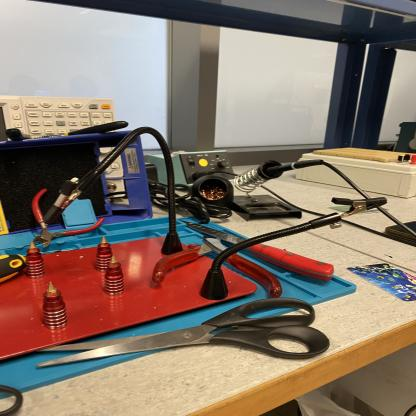Knife: (181, 220, 336, 286)
scissors: (30, 296, 332, 370)
